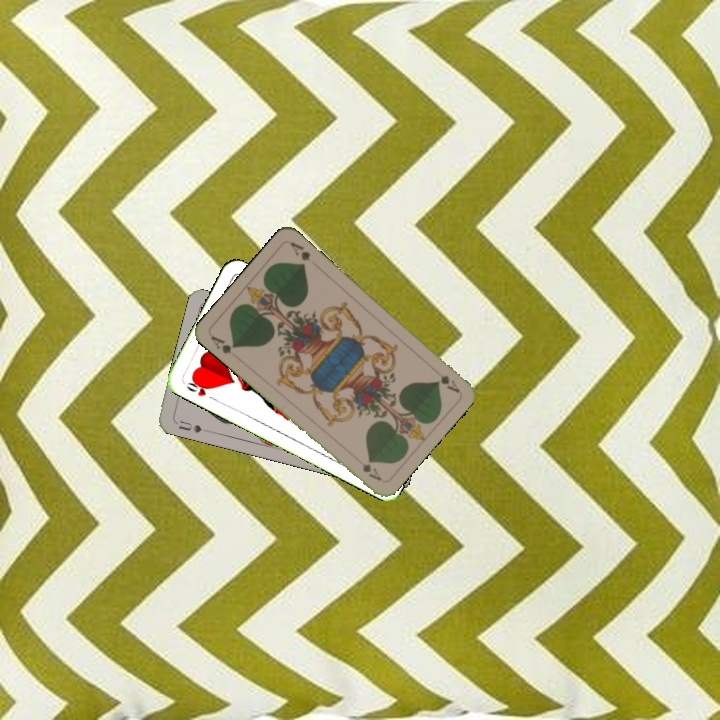GA: (206, 331, 239, 357), (436, 371, 462, 395)
HO: (182, 375, 218, 403)
SU: (171, 416, 211, 435)
